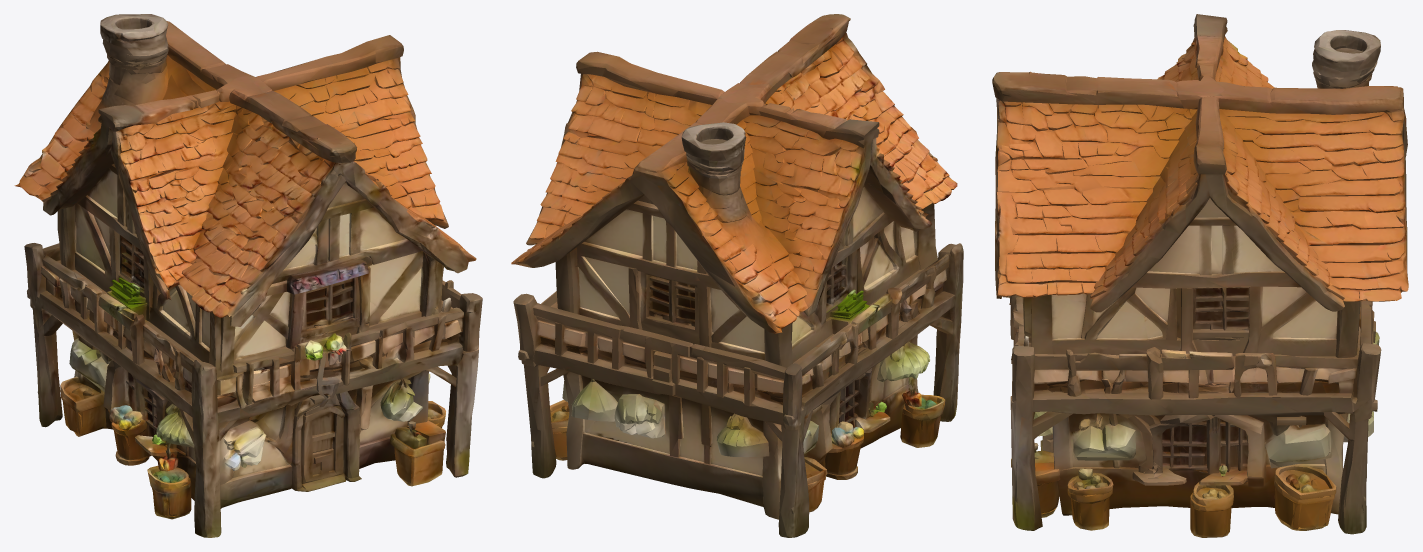
The picture shows the model from 3 angles, left to right: view 1: azimuth 30°, elevation 25°; view 2: azimuth 150°, elevation 25°; view 3: azimuth 270°, elevation 25°; orthographic projection. The views are drawn at different scales.
Parts seen in each view (by area): view 1: model; view 2: model; view 3: model.
Boxes of the visible parts, bbox=[...] form: model: bbox=[14, 14, 482, 537]; model: bbox=[511, 14, 963, 537]; model: bbox=[992, 14, 1408, 537].
Bounding box in the file's own units: 1.57 × 1.89 × 1.77.
1 material, 1 textured.
